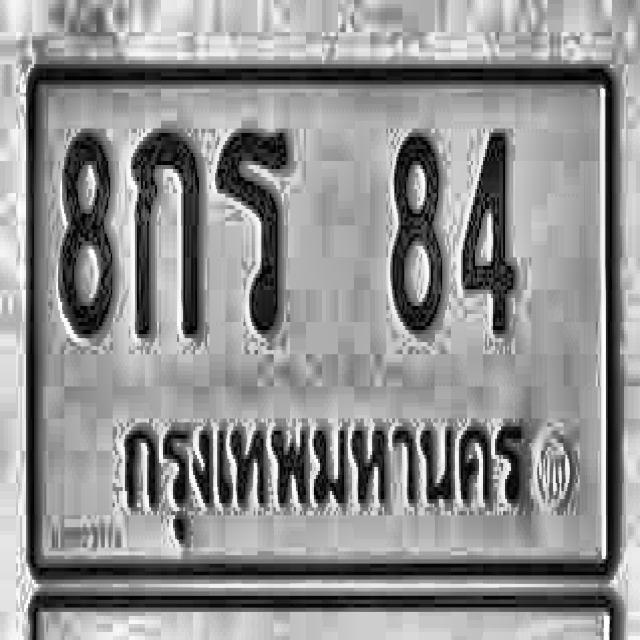license-plate: (26, 54, 616, 580)
